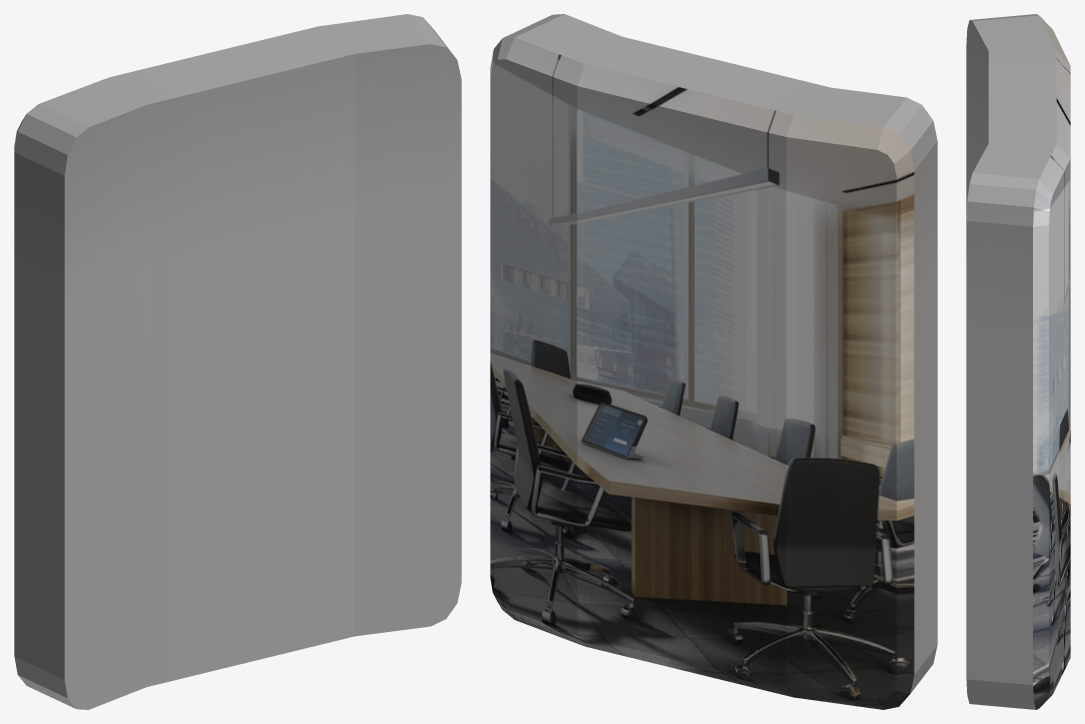
File: participant.glb
3 renders of one model, left to right at view 1: azimuth 30°, elevation 25°; view 2: azimuth 150°, elevation 25°; view 3: azimuth 270°, elevation 25°, orthographic. The views are drawn at different scales.
Visible parts, largest first — view 1: Cube; view 2: Cube; view 3: Cube.
Part boxes in pixels (x1=…): Cube: x1=14, y1=14, x2=461, y2=709; Cube: x1=490, y1=14, x2=937, y2=709; Cube: x1=966, y1=14, x2=1070, y2=709.
Size of the model in its own units: 1.52 by 2 by 0.3563.
1 material, 1 textured.
